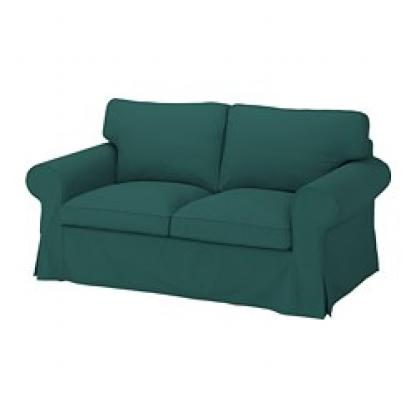Sofa: (16, 63, 392, 326)
